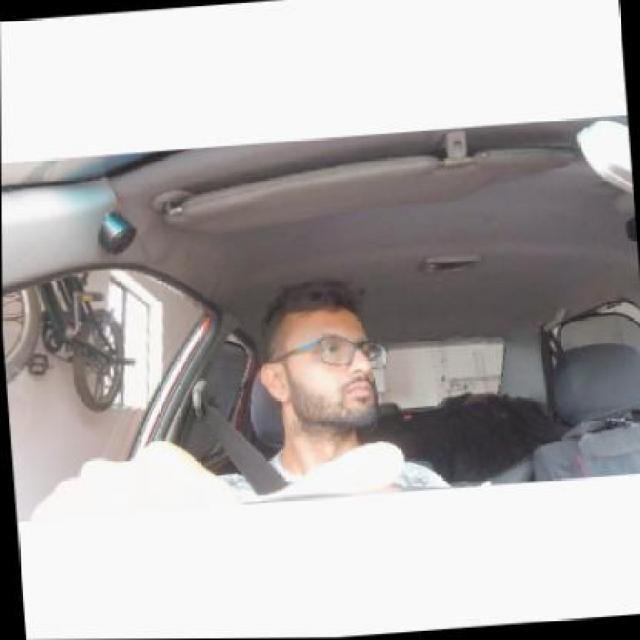person: (254, 280, 398, 437)
